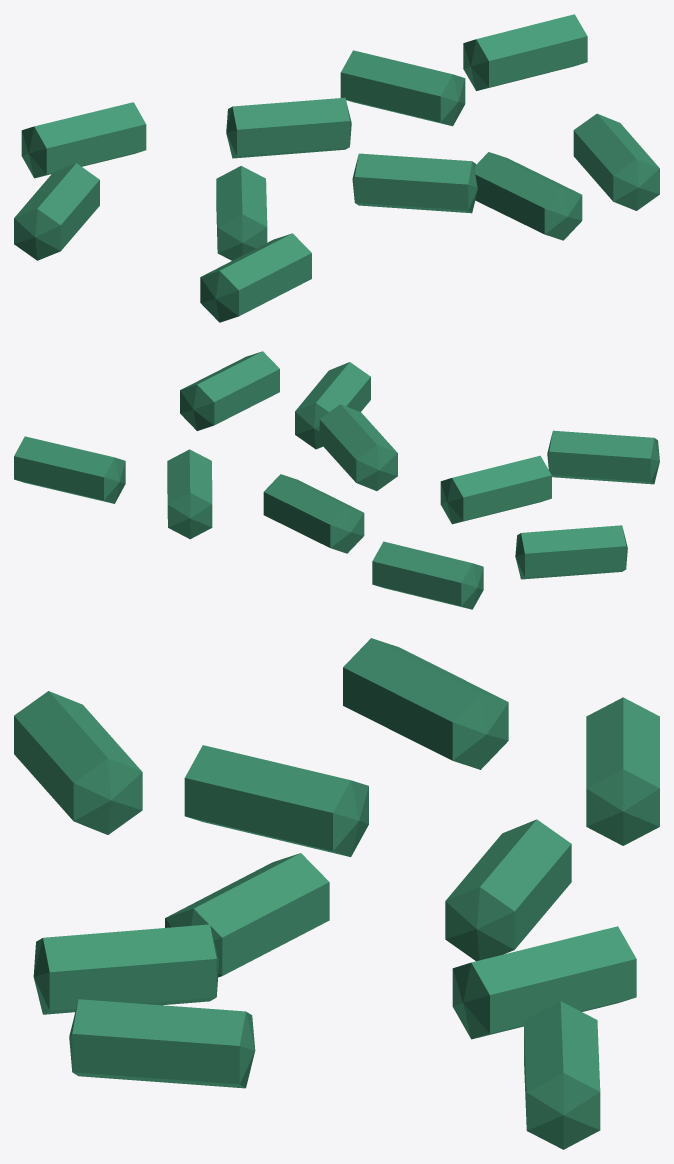
Rendered from long-bean-chopped.glb.
The picture shows the model from 3 angles, top to bottom: view 1: azimuth 30°, elevation 25°; view 2: azimuth 150°, elevation 25°; view 3: azimuth 270°, elevation 25°; orthographic projection. The views are drawn at different scales.
Parts seen in each view (by area): view 1: long-bean-chopped; view 2: long-bean-chopped; view 3: long-bean-chopped.
Boxes of the visible parts, box(x1,y1,x2,y2) form: long-bean-chopped: box(14, 14, 659, 322); long-bean-chopped: box(14, 351, 659, 609); long-bean-chopped: box(14, 638, 659, 1149).
Size of the model in its own units: 0.2249 by 0.018 by 0.1368.
Materials: 1 (1 with a texture image).
